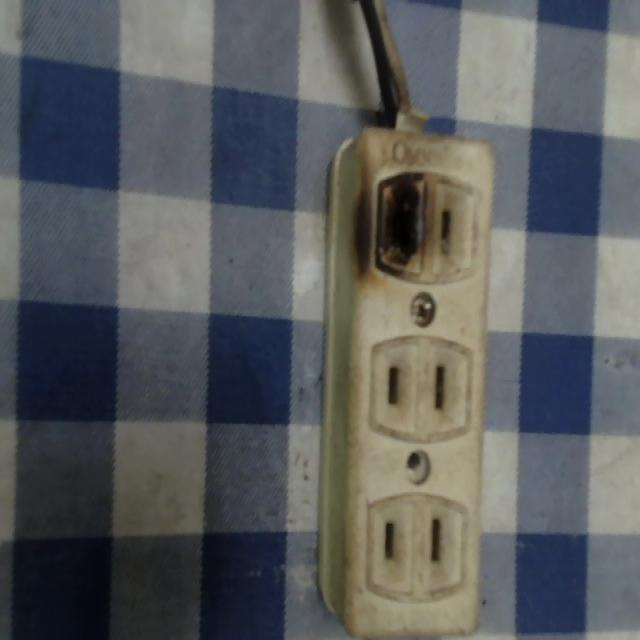-: (349, 157, 432, 291)
